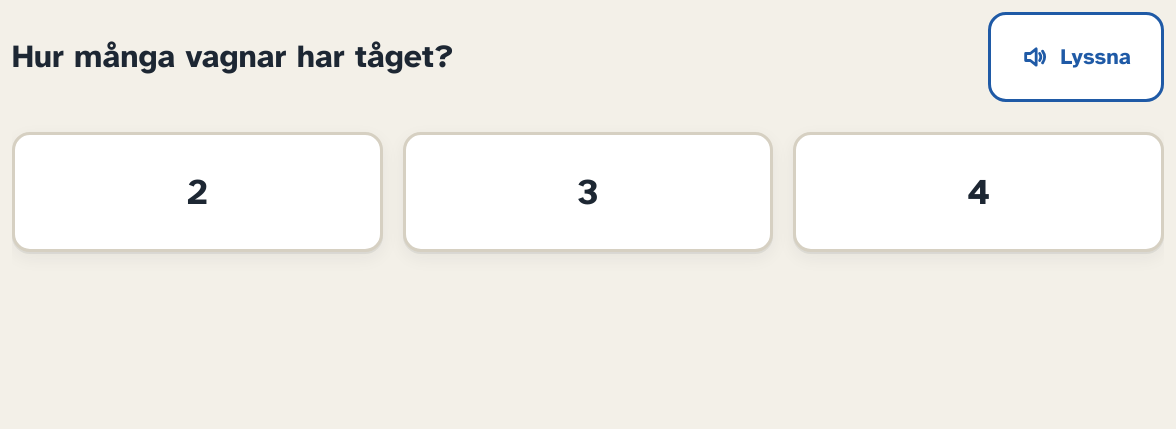
it: Exercise › responds to a wrong answer calmly with a hint, never "fel"
The width and height of the screenshot is (1176, 429).
Click the button "4" at (979, 192), box x1=793 y1=132 x2=1164 y2=252
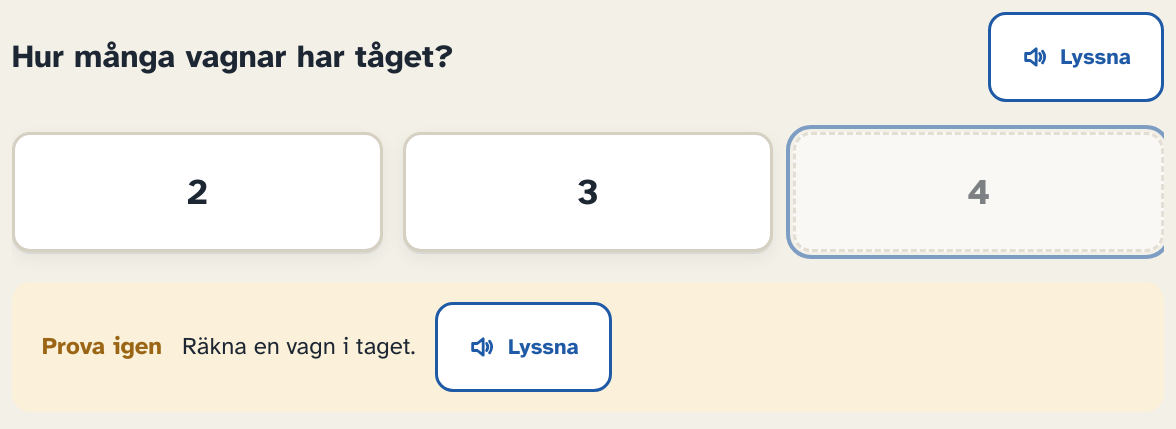
Check: the text "Prova igen" is shown, box x1=42 y1=330 x2=162 y2=364
Check: the text "Räkna en vagn i taget." is shown, box x1=182 y1=330 x2=415 y2=364
